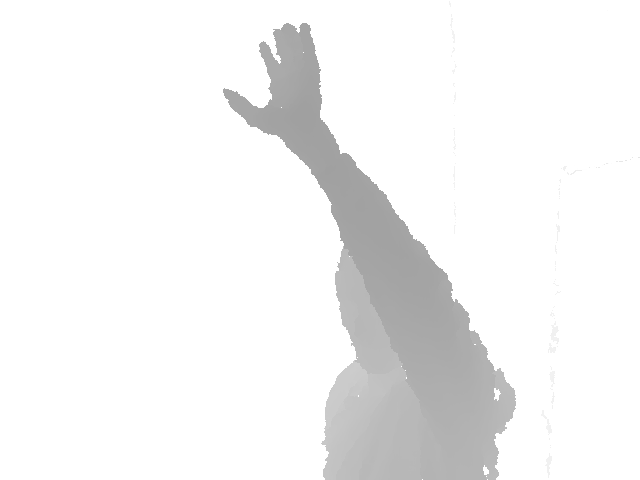hand: (221, 21, 336, 136)
head: (332, 245, 411, 374)
person: (221, 21, 517, 479)
